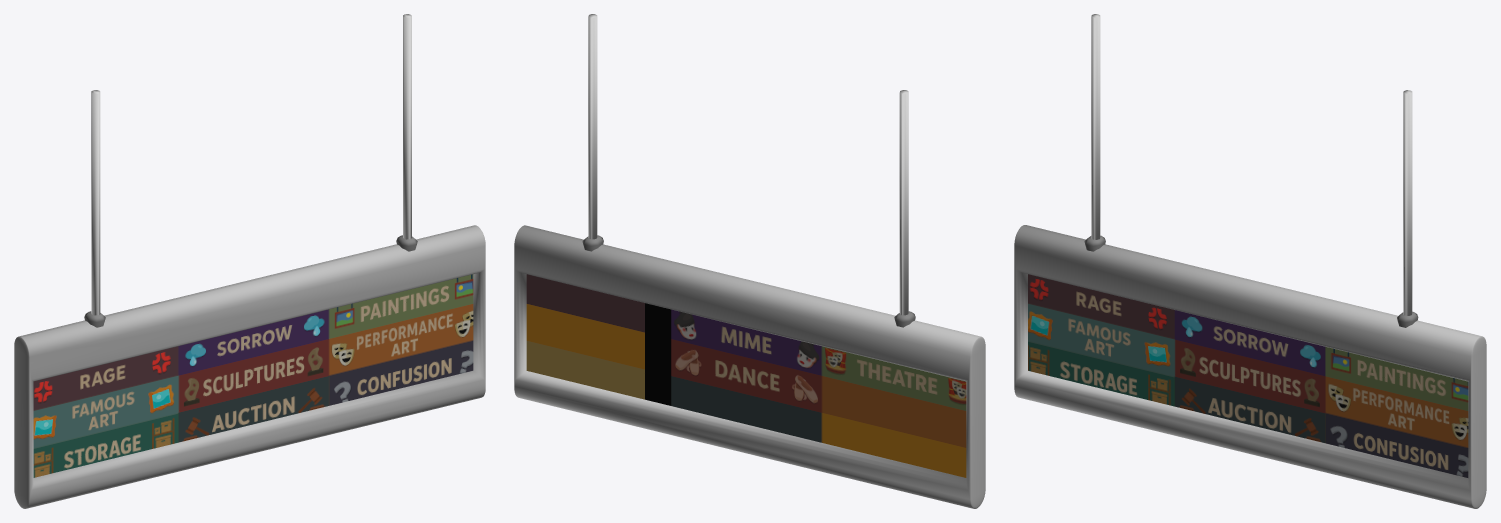
Rendered from Hanging_Sign_Large.fbx.
3 views of the same model, side by side, from view 1: azimuth 30°, elevation 25°; view 2: azimuth 150°, elevation 25°; view 3: azimuth 330°, elevation 25° (orthographic).
Visible parts, largest first — view 1: Hanging_Sign_Large_LOD0; view 2: Hanging_Sign_Large_LOD0; view 3: Hanging_Sign_Large_LOD0.
Part boxes in pixels (<box>): Hanging_Sign_Large_LOD0: <box>14,14,485,508</box>; Hanging_Sign_Large_LOD0: <box>514,14,985,508</box>; Hanging_Sign_Large_LOD0: <box>1014,14,1486,508</box>.
Size of what is drawn, in the model's own units: 1.72 by 0.1001 by 1.43.
